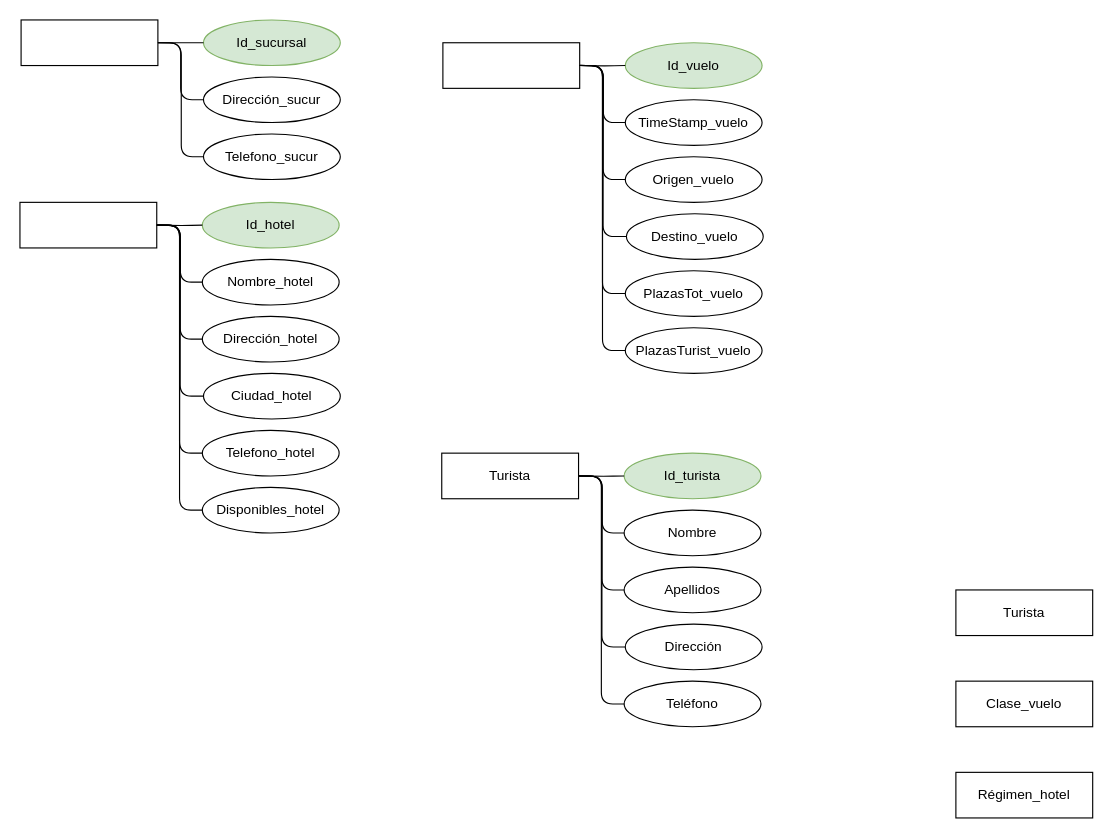
The diagram is 1113 pixels wide and 838 high, and some of its shapes have lost their labels. Each missing label, with the centre of its shape:
Hotel: point (88, 224)
Sucursal: point (89, 42)
Vuelo: point (511, 65)
